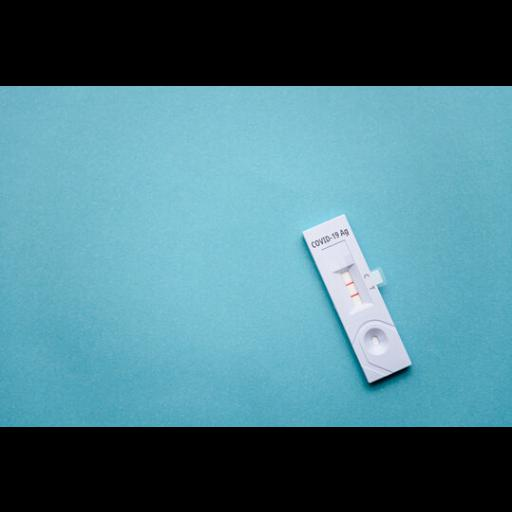Pos: (303, 214, 414, 382)
